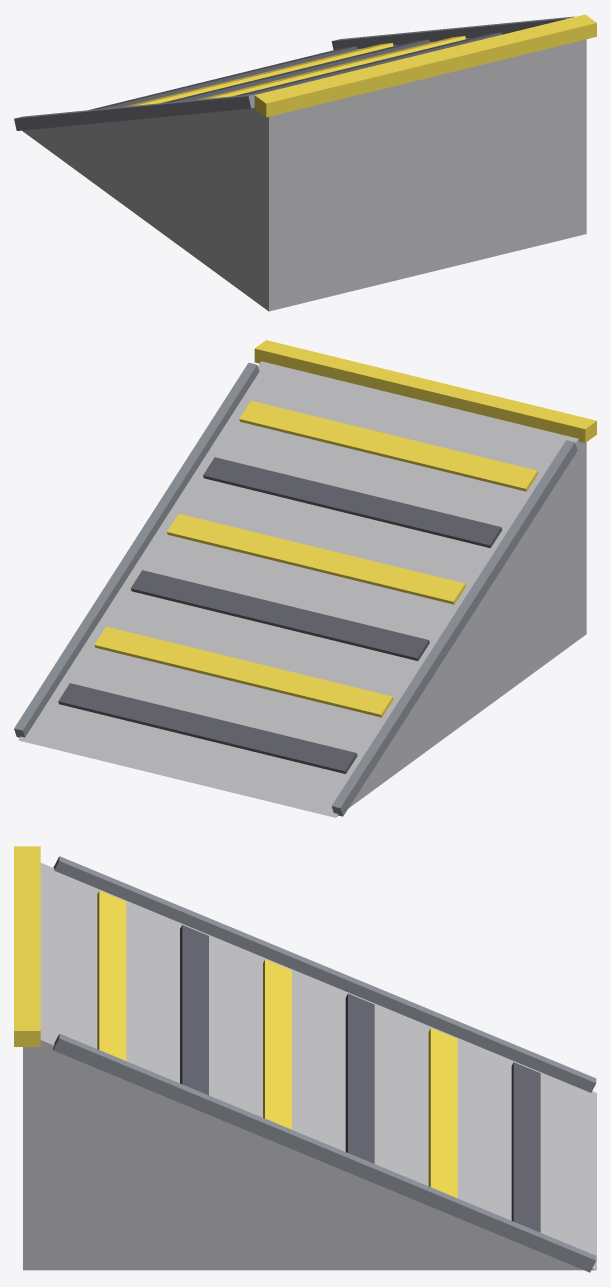
The model's file is ramp.glb.
3 views of the same model, one above another, from view 1: azimuth 30°, elevation 25°; view 2: azimuth 150°, elevation 25°; view 3: azimuth 270°, elevation 25° (orthographic). The views are drawn at different scales.
Parts seen in each view (by area): view 1: ramp; view 2: ramp; view 3: ramp.
Boxes of the visible parts, <box> form: ramp: <box>14,14,596,311</box>; ramp: <box>14,340,596,817</box>; ramp: <box>14,846,596,1272</box>.
Size of the model in its own units: 1.5 by 0.92 by 2.
